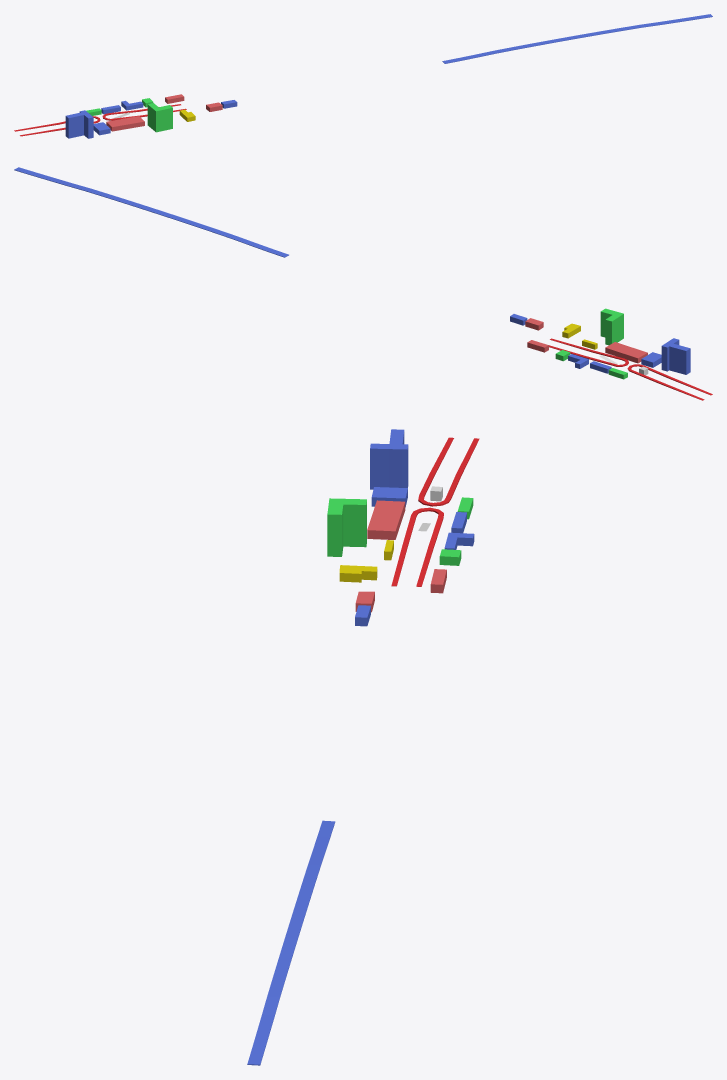
File: world.glb
The picture shows the model from 3 angles, top to bottom: view 1: azimuth 30°, elevation 25°; view 2: azimuth 150°, elevation 25°; view 3: azimuth 270°, elevation 25°; orthographic projection. The views are drawn at different scales.
Visible parts, largest first — view 1: Plane.003, Plane.013, Plane.004, Plane.001, Plane.002; view 2: Plane.003, Plane.013, Plane.001, Plane.004, Plane.002; view 3: Plane.013, Plane.003, Plane.004, Plane.001, Plane.002.
Part boxes in pixels (left/top/right/bottom): Plane.003: left=65, top=100, right=143, bottom=138; Plane.013: left=442, top=14, right=712, bottom=63; Plane.004: left=147, top=103, right=172, bottom=132; Plane.001: left=14, top=104, right=186, bottom=136; Plane.002: left=106, top=116, right=144, bottom=131; Plane.003: left=568, top=338, right=690, bottom=374; Plane.013: left=14, top=167, right=288, bottom=257; Plane.001: left=549, top=338, right=712, bottom=400; Plane.004: left=600, top=308, right=623, bottom=345; Plane.002: left=605, top=342, right=647, bottom=363; Plane.013: left=247, top=820, right=335, bottom=1065; Plane.003: left=370, top=429, right=474, bottom=549; Plane.004: left=327, top=498, right=366, bottom=556; Plane.001: left=391, top=437, right=479, bottom=586; Plane.002: left=367, top=500, right=405, bottom=539.
Size of what is drawn, in the model's own units: 1987 by 63.5 by 311.
